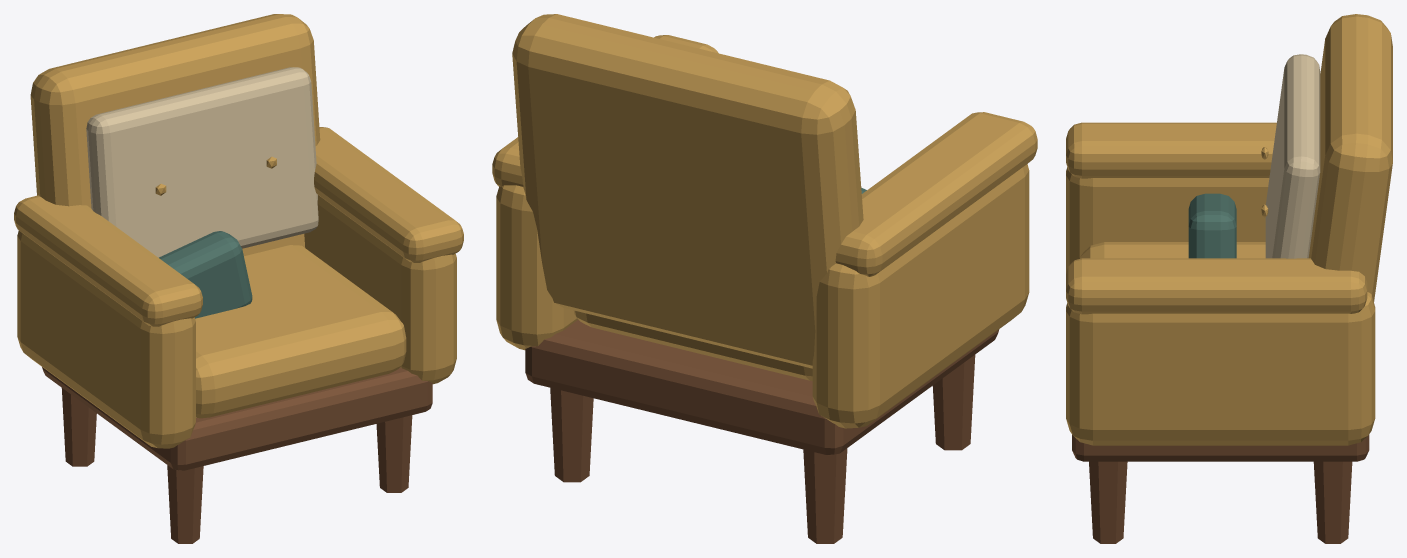
Rendered from SM_CH_Story_Armchair.fbx.
3 renders of one model, left to right at view 1: azimuth 30°, elevation 25°; view 2: azimuth 150°, elevation 25°; view 3: azimuth 270°, elevation 25°, orthographic. The views are drawn at different scales.
Visible parts, largest first — view 1: SM_CH_Story_Armchair; view 2: SM_CH_Story_Armchair; view 3: SM_CH_Story_Armchair.
Boxes of the visible parts, box(x1,y1,x2,y2) form: SM_CH_Story_Armchair: box(14, 14, 463, 543); SM_CH_Story_Armchair: box(492, 14, 1037, 543); SM_CH_Story_Armchair: box(1066, 14, 1392, 543).
Size of the model in its own units: 9800 by 8141 by 11242.
